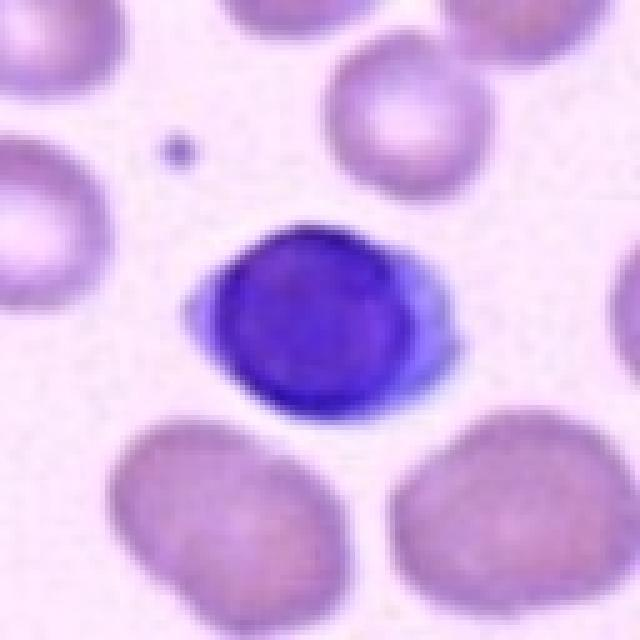lympho: (168, 214, 474, 422)
